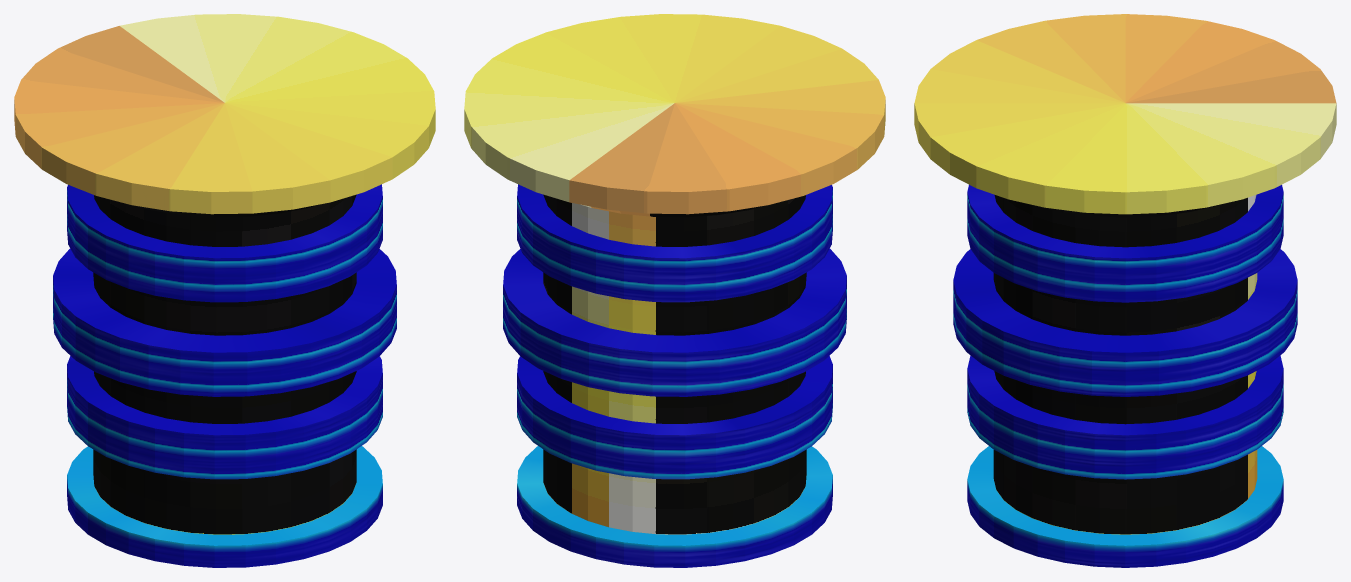
Rendered from temporal_connection_amplifier_top.obj.
3 renders of one model, left to right at view 1: azimuth 30°, elevation 25°; view 2: azimuth 150°, elevation 25°; view 3: azimuth 270°, elevation 25°, orthographic.
Visible parts, largest first — view 1: Cylinder.001; view 2: Cylinder.001; view 3: Cylinder.001.
Boxes of the visible parts, x1,y1,x2,y2 form: Cylinder.001: [14, 14, 435, 567]; Cylinder.001: [464, 14, 885, 567]; Cylinder.001: [914, 14, 1336, 567].
Size of the model in its own units: 0.961 by 1 by 0.961.
